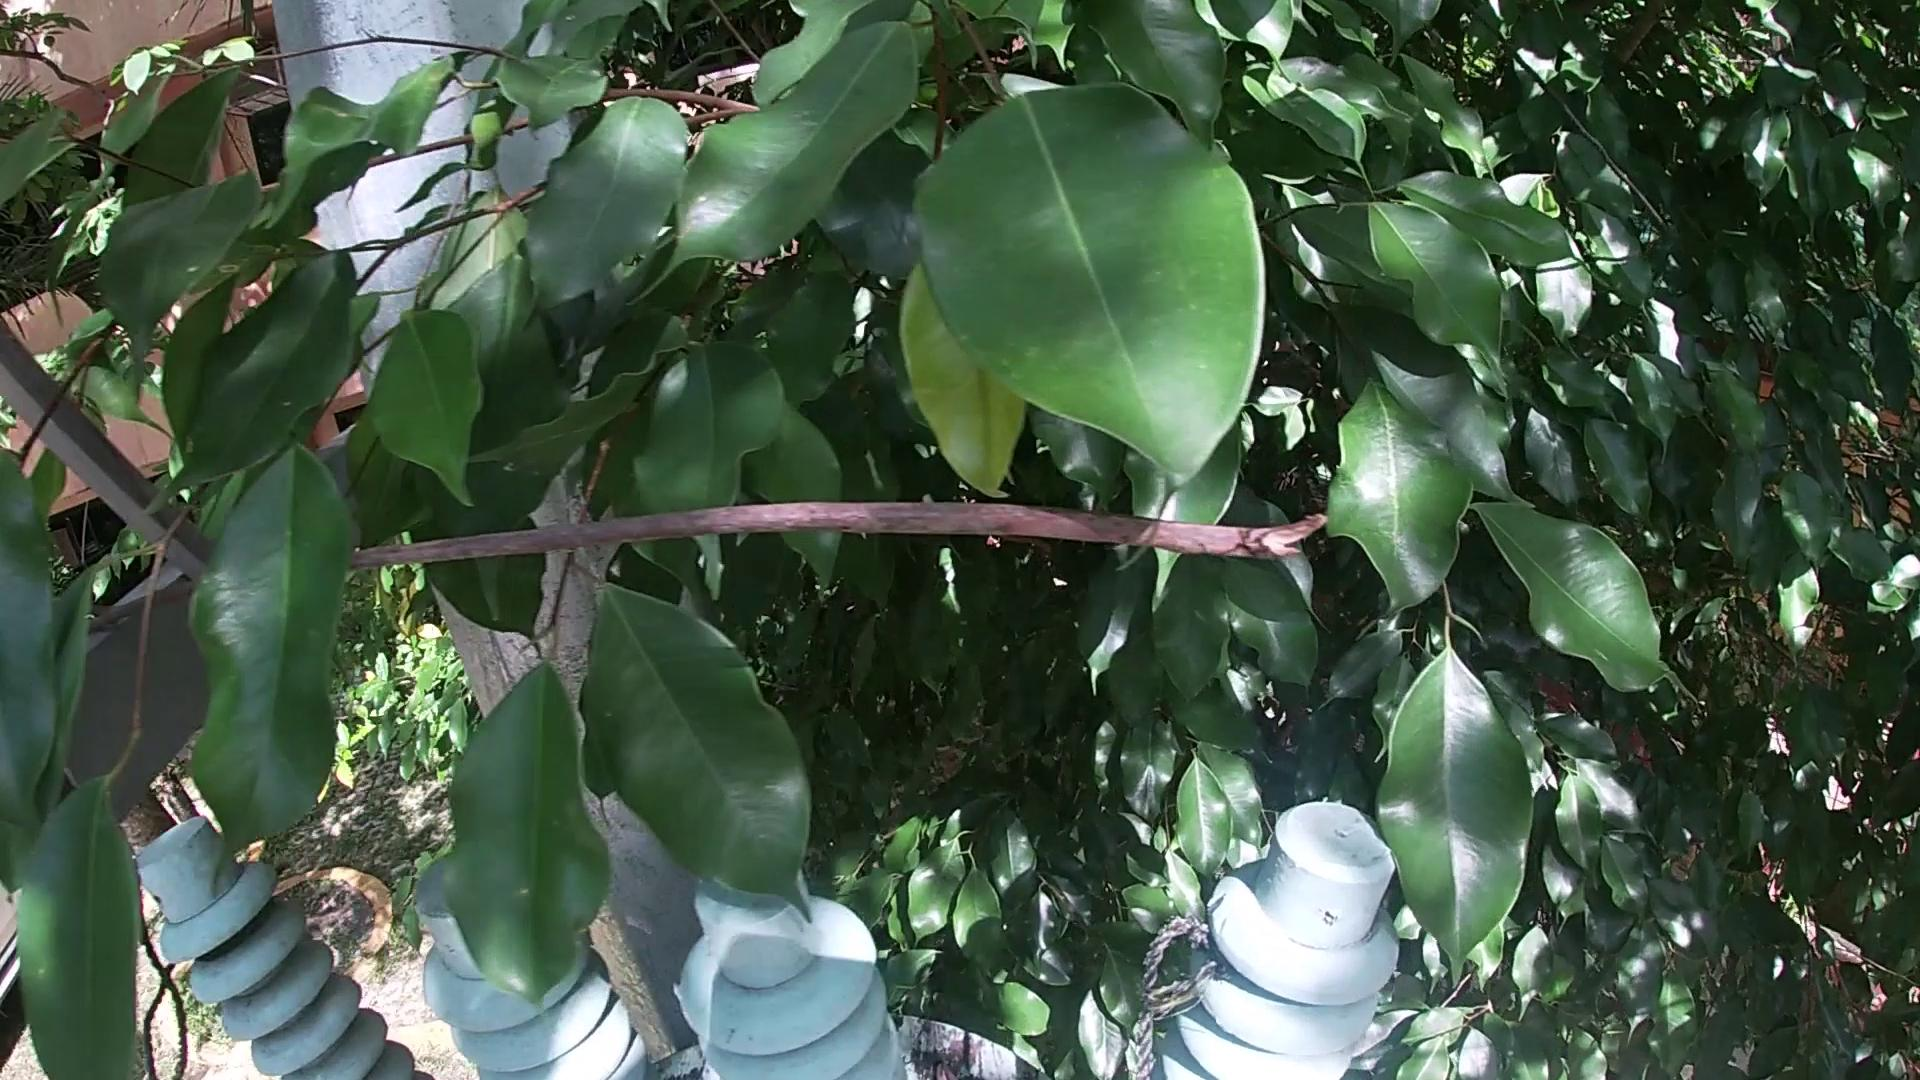tree branch: (1, 454, 1443, 799)
